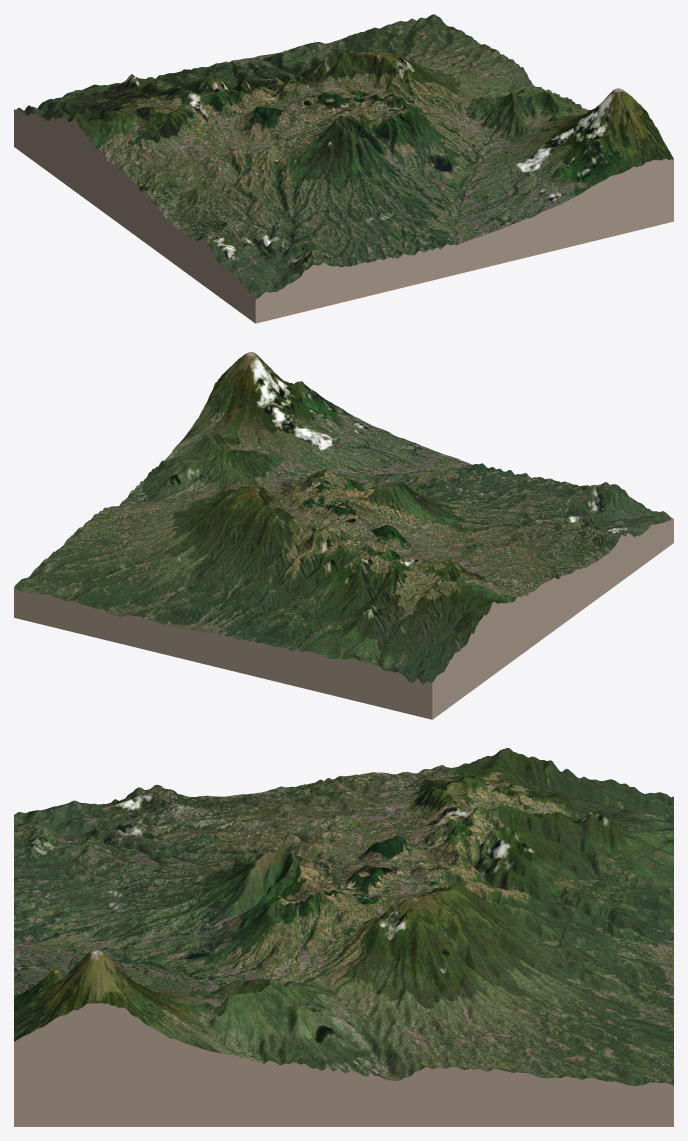
The model's file is mountain_terrain.glb.
3 renders of one model, top to bottom at view 1: azimuth 30°, elevation 25°; view 2: azimuth 150°, elevation 25°; view 3: azimuth 270°, elevation 25°, orthographic. The views are drawn at different scales.
Visible parts, largest first — view 1: DEM SRTM 30M JAWA TENGAH, side (×2); view 2: DEM SRTM 30M JAWA TENGAH, side (×2); view 3: DEM SRTM 30M JAWA TENGAH, side.
Part boxes in pixels (box(x1,y1,x2,y2)): DEM SRTM 30M JAWA TENGAH: box(14, 14, 673, 299); side (×2): box(14, 109, 673, 323); DEM SRTM 30M JAWA TENGAH: box(14, 352, 671, 684); side (×2): box(14, 518, 673, 719); DEM SRTM 30M JAWA TENGAH: box(14, 748, 673, 1086); side: box(14, 1003, 673, 1126).
Bounding box in the file's own units: 23730 × 6275 × 23730.
2 materials, 1 textured.
